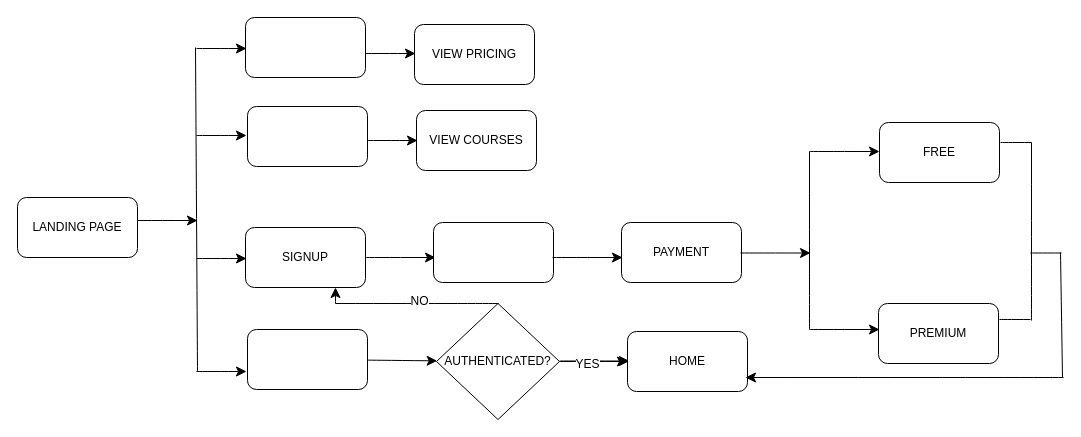
Image size: 1081x437. Some labels were removed from this diagram. Here are the shapes that lost their labels. From the top down, the box of each, then its label:
(244, 16, 366, 78): PRICING
(246, 106, 368, 166): COURSES
(432, 222, 554, 282): ENTER DETAILS
(246, 328, 368, 390): LOGIN
